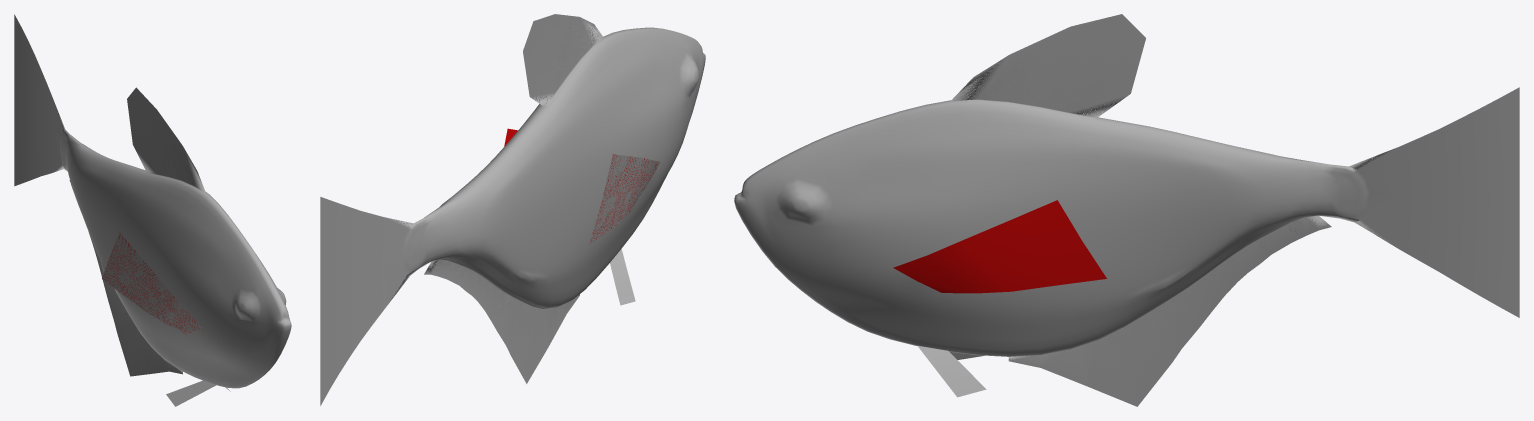
File: Pempheridae_A.fbx
3 views of the same model, side by side, from view 1: azimuth 30°, elevation 25°; view 2: azimuth 150°, elevation 25°; view 3: azimuth 270°, elevation 25° (orthographic). The views are drawn at different scales.
Visible parts, largest first — view 1: Pempheridae_A_LOD0; view 2: Pempheridae_A_LOD0; view 3: Pempheridae_A_LOD0.
Boxes of the visible parts, left/top/right/bottom form: Pempheridae_A_LOD0: left=14, top=14, right=291, bottom=406; Pempheridae_A_LOD0: left=320, top=14, right=705, bottom=405; Pempheridae_A_LOD0: left=734, top=14, right=1519, bottom=406.
Size of what is drawn, in the model's own units: 0.171 by 0.5547 by 1.
